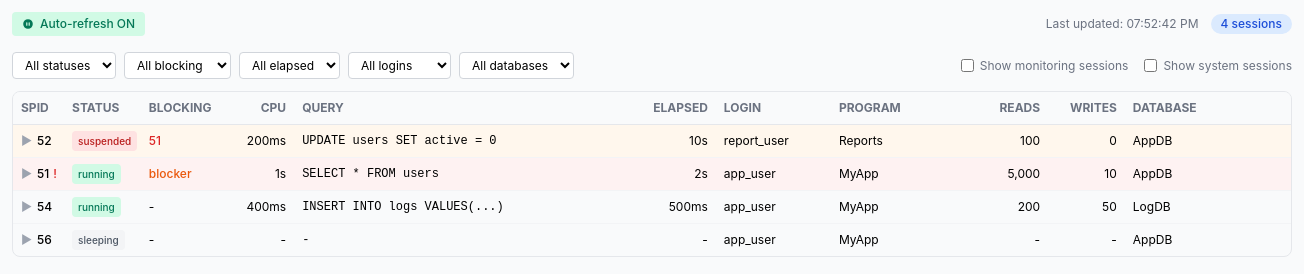
Test: CurrentActivity › filters by database
Select "LogDB" in the dropdown with test id "filter-database" at x=516, y=66, box [459,52,574,79]
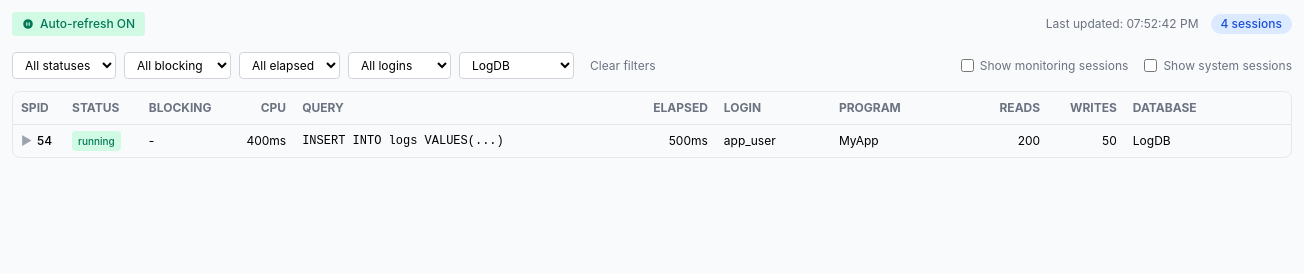
Expected: the row with test id "session-row-54" is shown, [13,124,1291,157]
Result: the row with test id "session-row-51" is gone
